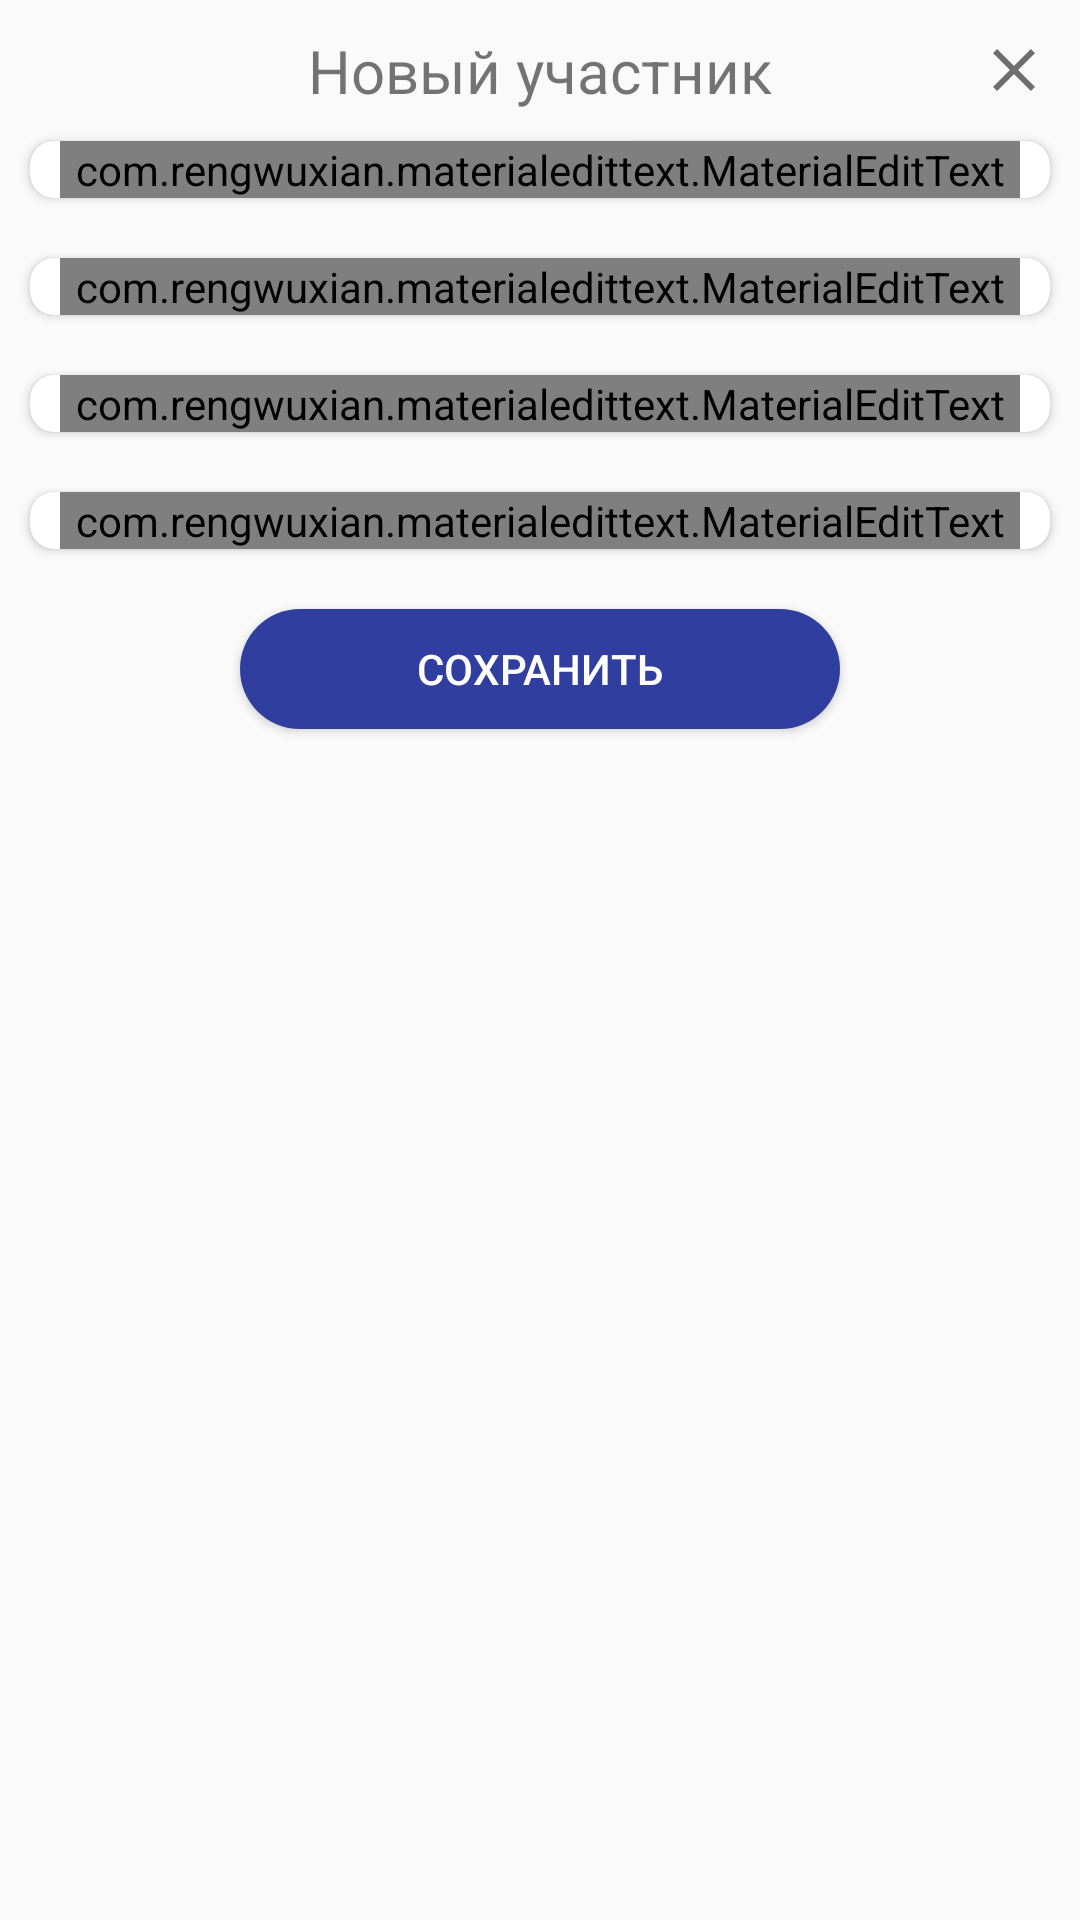

Named icons in this screenshot (1080x1920) and their bounding boxes, (x1, y1, x2, y2):
close: (993, 49, 1035, 91)
